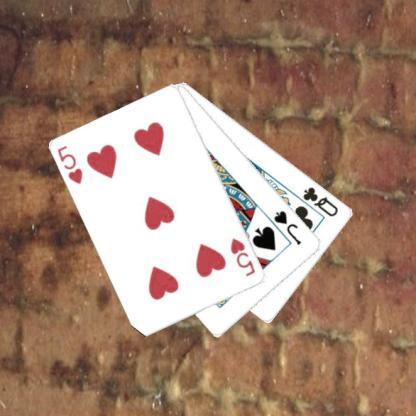5H: (227, 235, 257, 278), (55, 143, 85, 186)
JS: (271, 207, 303, 246)
QC: (300, 184, 340, 219)
